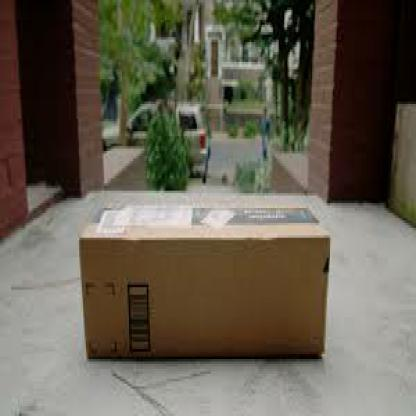box: (74, 196, 336, 375)
